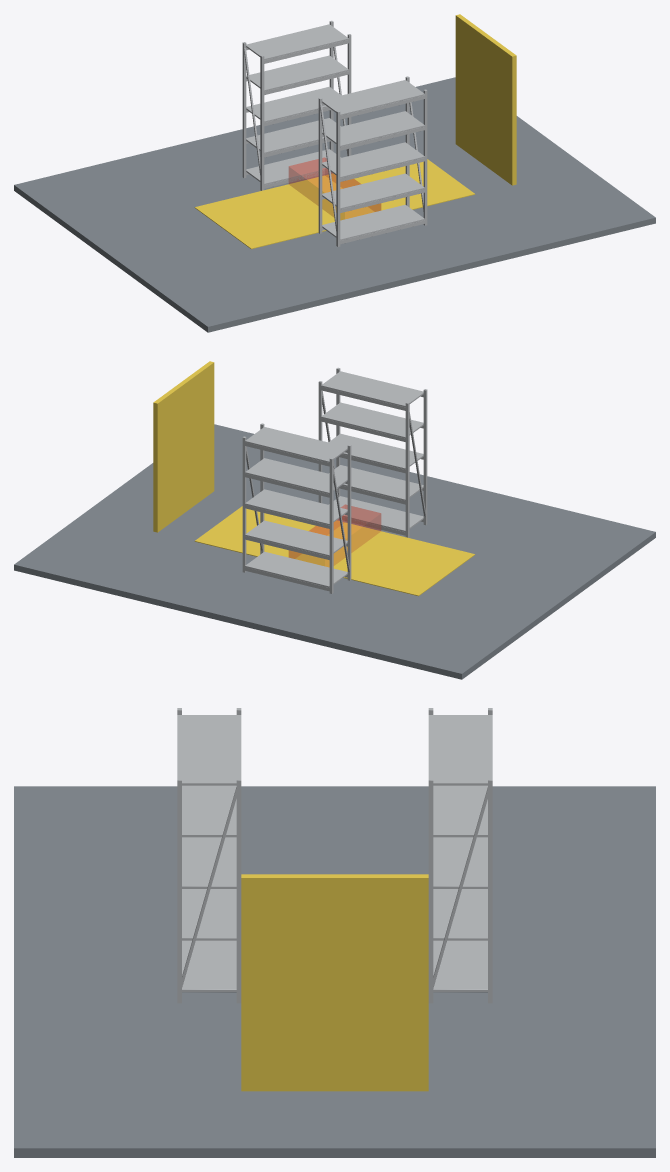
The model's file is warehouse_source.glb.
The picture shows the model from 3 angles, top to bottom: view 1: azimuth 30°, elevation 25°; view 2: azimuth 150°, elevation 25°; view 3: azimuth 270°, elevation 25°; orthographic projection. The views are drawn at different scales.
Parts seen in each view (by area): view 1: Floor, Public_Rack_Mesh (×2), Aisle_01, Door_Opening_01, Blocker_Region_01; view 2: Floor, Public_Rack_Mesh (×2), Aisle_01, Door_Opening_01, Blocker_Region_01; view 3: Floor, Door_Opening_01, Public_Rack_Mesh (×2).
Part boxes in pixels (<box>): Floor: <box>14,77,655,332</box>; Public_Rack_Mesh (×2): <box>242,20,427,246</box>; Aisle_01: <box>194,159,475,249</box>; Door_Opening_01: <box>455,14,516,185</box>; Blocker_Region_01: <box>288,157,381,219</box>; Floor: <box>14,424,655,679</box>; Public_Rack_Mesh (×2): <box>242,367,427,593</box>; Aisle_01: <box>194,506,475,596</box>; Door_Opening_01: <box>153,361,214,532</box>; Blocker_Region_01: <box>288,504,381,566</box>; Floor: <box>14,786,655,1157</box>; Door_Opening_01: <box>241,874,428,1091</box>; Public_Rack_Mesh (×2): <box>177,708,492,1003</box>.
Bounding box in the file's own units: 8 × 2.4 × 6.
